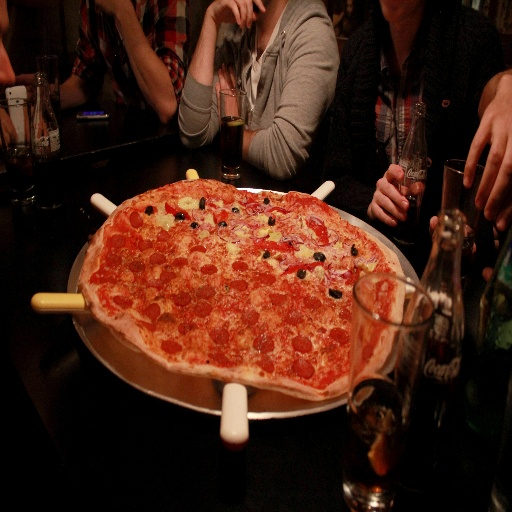hand: (463, 73, 511, 234), (371, 159, 425, 224), (428, 213, 478, 259), (213, 61, 243, 132), (210, 0, 266, 34), (15, 74, 54, 100), (22, 104, 48, 143), (0, 108, 18, 150), (95, 0, 134, 19)
